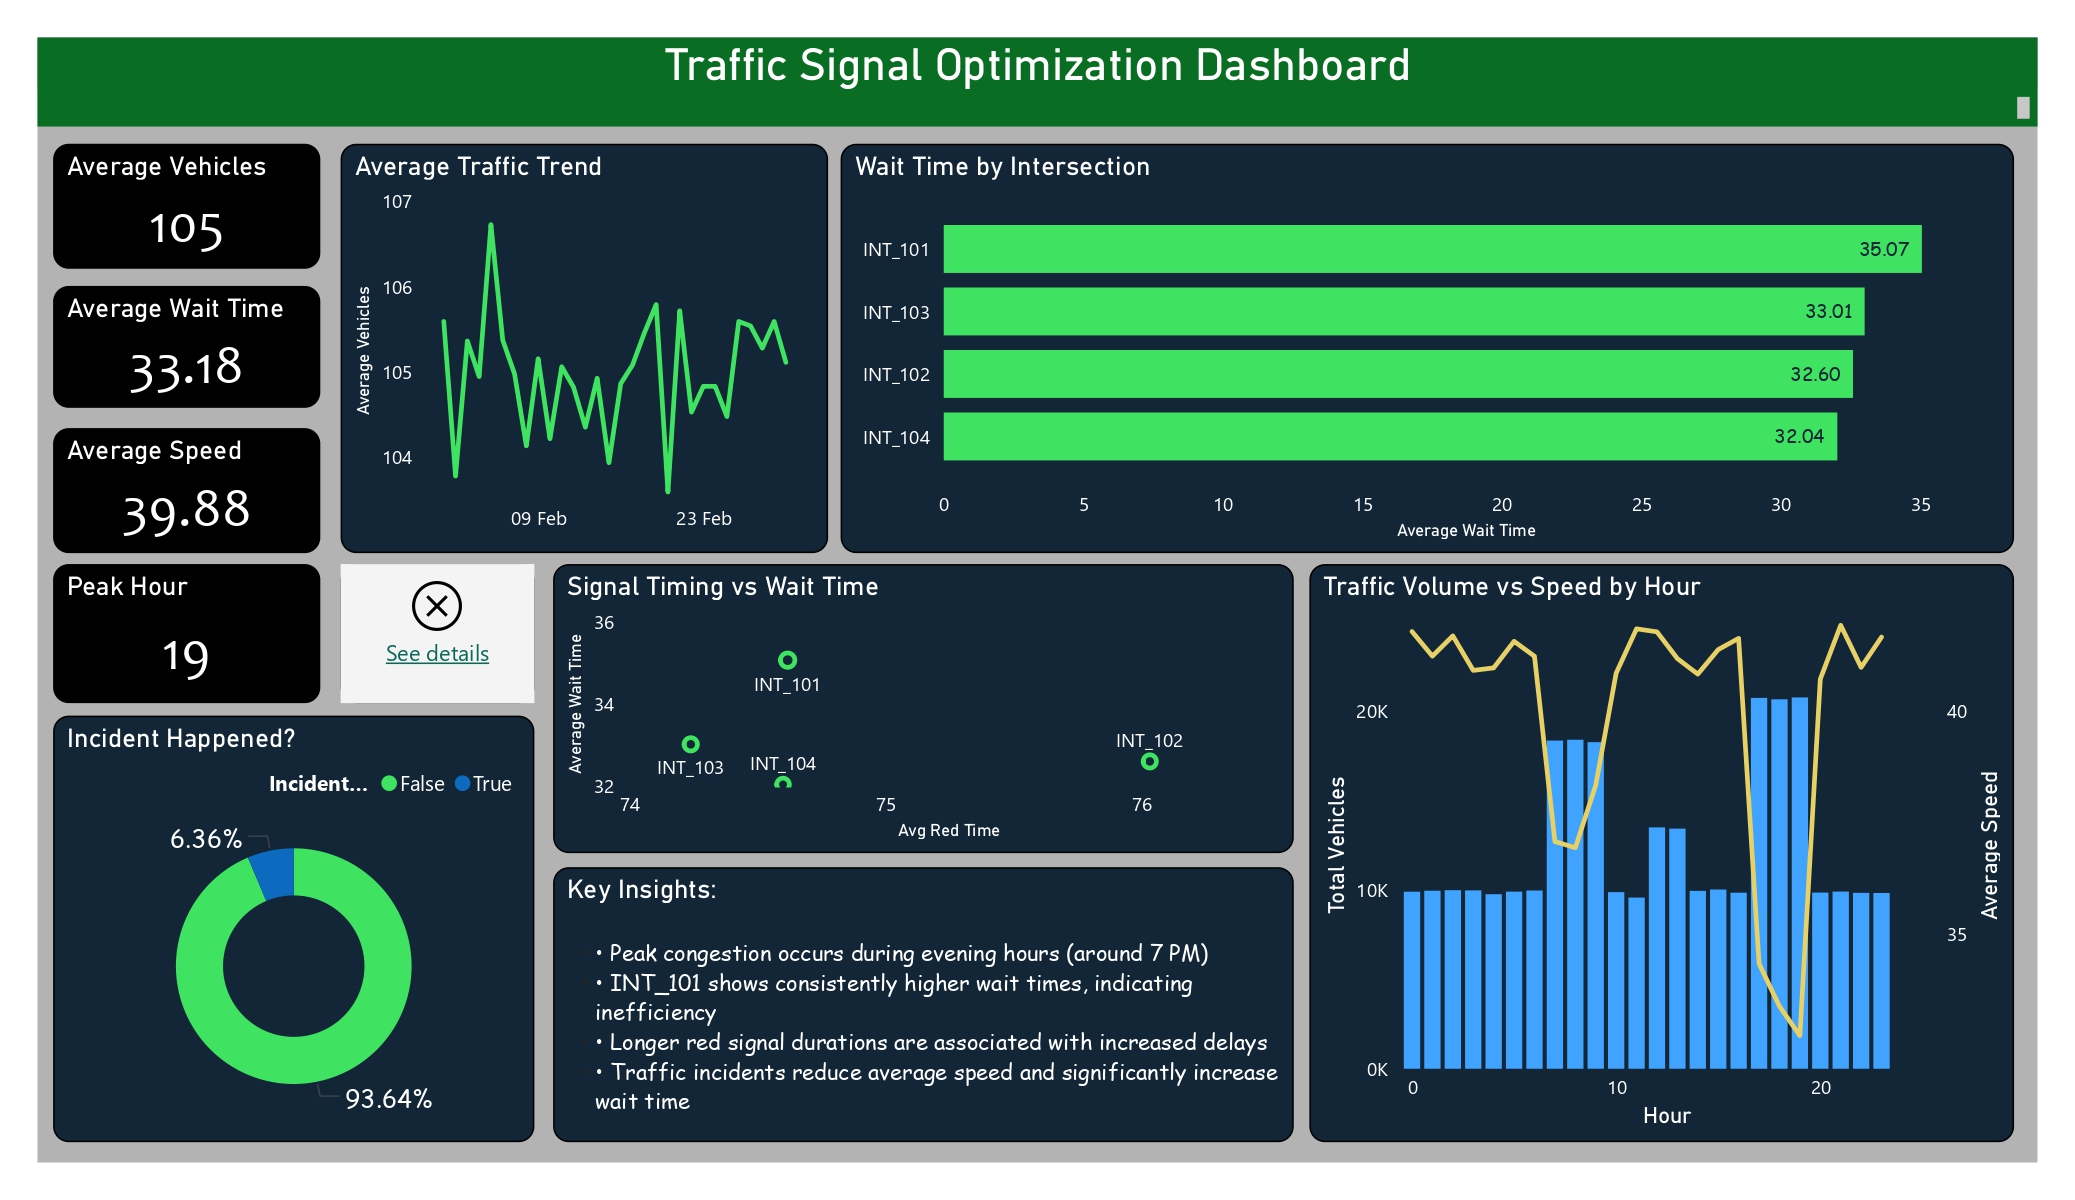

The page's visual inventory and layout, read from the dashboard file:
{"tool":"powerbi","page":{"name":"Page 1","canvas":[1280,720],"ordinal":0},"visuals":[{"type":"textbox","title":"Traffic Signal Optimization Dashboard","box":[0,0,1280,57.4],"z":0},{"type":"card","title":"Average Vehicles","fields":{"Values":["Avg(traffic_flow.vehicles_count)"]},"box":[9.7,68.1,171.2,79.8],"z":1000},{"type":"card","title":"Average Wait Time","fields":{"Values":["Avg(waiting_time.avg_wait_time)"]},"box":[9.7,158.5,171.2,78.8],"z":2000},{"type":"card","title":"Average Speed","fields":{"Values":["Avg(traffic_flow.avg_speed)"]},"box":[9.7,250,171.2,79.8],"z":3000},{"type":"card","title":"Peak Hour","fields":{"Values":["incidents.Peak Hour"]},"box":[9.7,336.5,171.2,89.5],"z":4000},{"type":"card","title":"Incident Rate","fields":{"Values":["incidents.Incident Rate"]},"box":[193.6,336.5,124.5,89.5],"z":5000},{"type":"lineChart","title":"Average Traffic Trend ","fields":{"Category":["traffic_flow.datetime.Variation.Date Hierarchy.Year","traffic_flow.datetime.Variation.Date Hierarchy.Quarter","traffic_flow.datetime.Variation.Date Hierarchy.Month","traffic_flow.datetime.Variation.Date Hierarchy.Day"],"Y":["Avg(traffic_flow.vehicles_count)"]},"box":[193.6,68.1,312.2,261.6],"z":6000},{"type":"barChart","title":"Wait Time by Intersection","fields":{"Category":["signal_timing.intersection_id"],"Y":["Avg(waiting_time.avg_wait_time)"]},"box":[514,68,751,262],"z":7000},{"type":"scatterChart","title":"Signal Timing vs Wait Time","fields":{"X":["Avg(signal_timing.red_time)"],"Size":["Avg(traffic_flow.vehicles_count)"],"Y":["Avg(waiting_time.avg_wait_time)"],"Series":["traffic_flow.intersection_id"]},"box":[329.7,336.5,474.7,185.8],"z":8000},{"type":"donutChart","title":"Incident Happened?","fields":{"Category":["incidents.incident_flag"],"Y":["Sum(traffic_flow.vehicles_count)"]},"box":[9.7,433.8,308.3,273.3],"z":9000},{"type":"lineStackedColumnComboChart","title":"Traffic Volume vs Speed by Hour","fields":{"Category":["traffic_flow.Hour"],"Y":["Sum(traffic_flow.vehicles_count)"],"Y2":["Avg(traffic_flow.avg_speed)"]},"box":[814,337,451,370],"z":10000},{"type":"textbox","title":"Key Insights:","box":[329.7,531.1,474.7,176],"z":11000}]}

Visuals, with their boxes in screenshot pixels (x1, y1, x2, y2):
"Traffic Signal Optimization Dashboard" textbox: 38:43:2012:132
"Average Vehicles" card: 53:148:317:271
"Average Wait Time" card: 53:288:317:409
"Average Speed" card: 53:429:317:552
"Peak Hour" card: 53:562:317:700
"Incident Rate" card: 336:562:528:700
"Average Traffic Trend " lineChart: 336:148:818:552
"Wait Time by Intersection" barChart: 830:148:1988:552
"Signal Timing vs Wait Time" scatterChart: 546:562:1278:849
"Incident Happened?" donutChart: 53:712:528:1134
"Traffic Volume vs Speed by Hour" lineStackedColumnComboChart: 1293:563:1988:1133
"Key Insights:" textbox: 546:862:1278:1134
